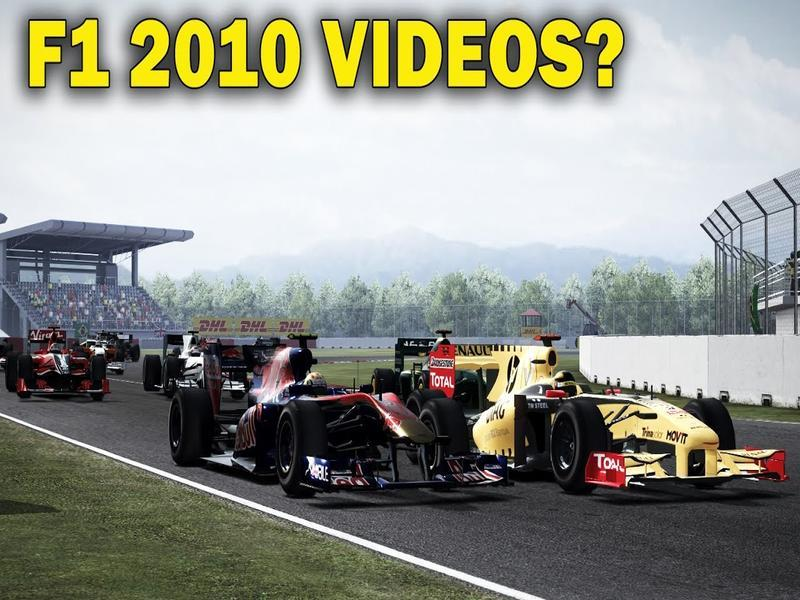f1: (399, 322, 800, 493), (173, 344, 468, 506), (17, 323, 130, 411)
